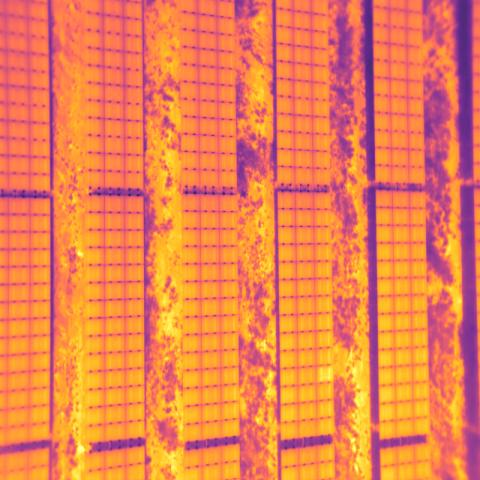fault: (318, 365, 333, 385)
